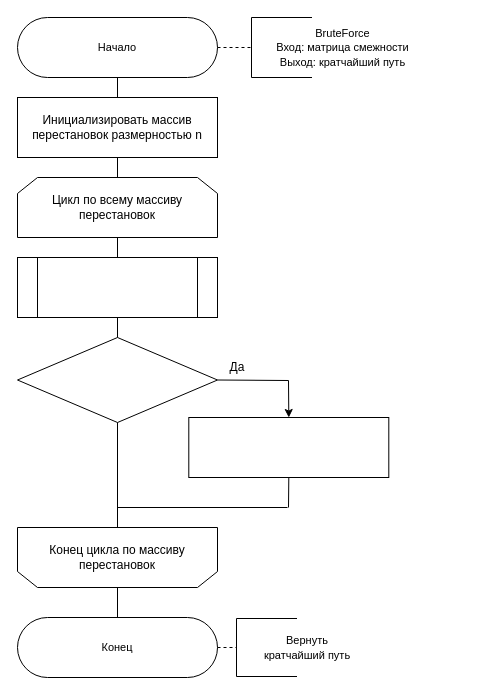
The diagram is 485 pixels wide and 695 high, and some of its shapes have lost their labels. Each missing label, with the centre of its shape:
"кратчайший путь = текущий путь" goes at [288,447].
"Посчитать длину пути текущей перестановки" goes at [117,287].
"Текущая длина пути меньше кратчайшей?" goes at [117,379].
